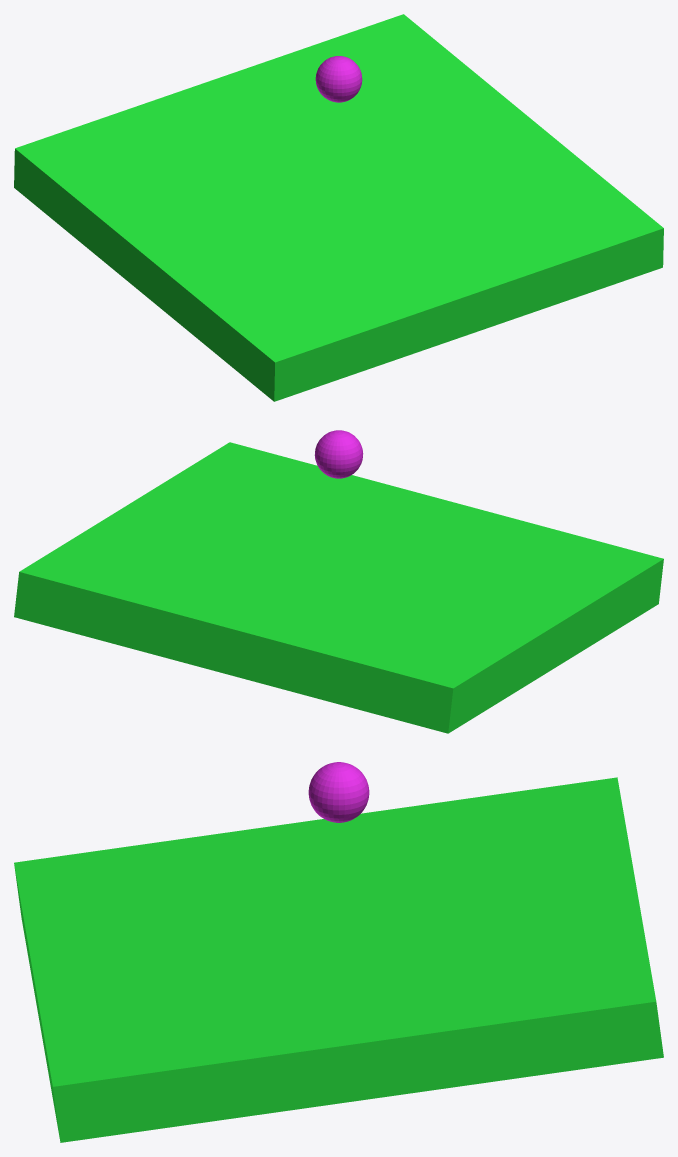
File: physicstest.gltf
The picture shows the model from 3 angles, top to bottom: view 1: azimuth 30°, elevation 25°; view 2: azimuth 150°, elevation 25°; view 3: azimuth 270°, elevation 25°; orthographic projection. The views are drawn at different scales.
Visible parts, largest first — view 1: Cube, Sphere; view 2: Cube, Sphere; view 3: Cube, Sphere.
Part boxes in pixels (x1,y1,x2,y2): Cube: (14,14,663,401); Sphere: (315,56,362,102); Cube: (14,442,663,733); Sphere: (314,430,363,478); Cube: (14,777,663,1142); Sphere: (308,762,369,822).
Size of the model in its own units: 21.44 by 9.86 by 21.33.
